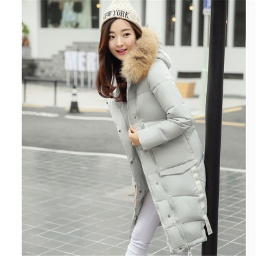face: (90, 10, 158, 105)
